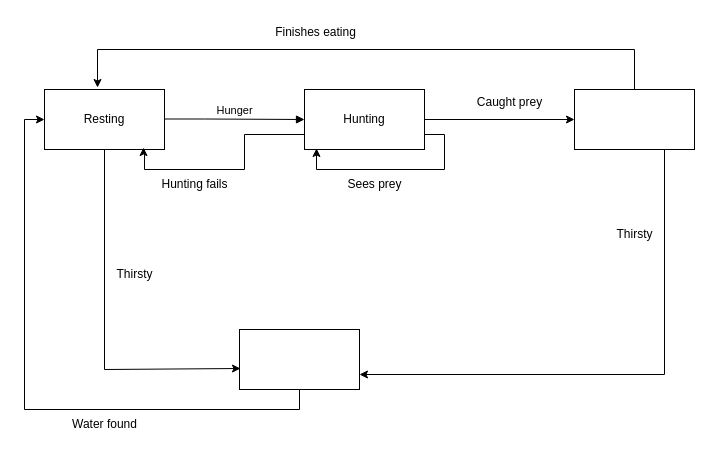
This 712x456 diagram has some shape labels left out. Here are the shapes that lost their labels. From the top down, the centre of each, then its label:
At (634,119): "Eating".
At (299,359): "Searching for water".
